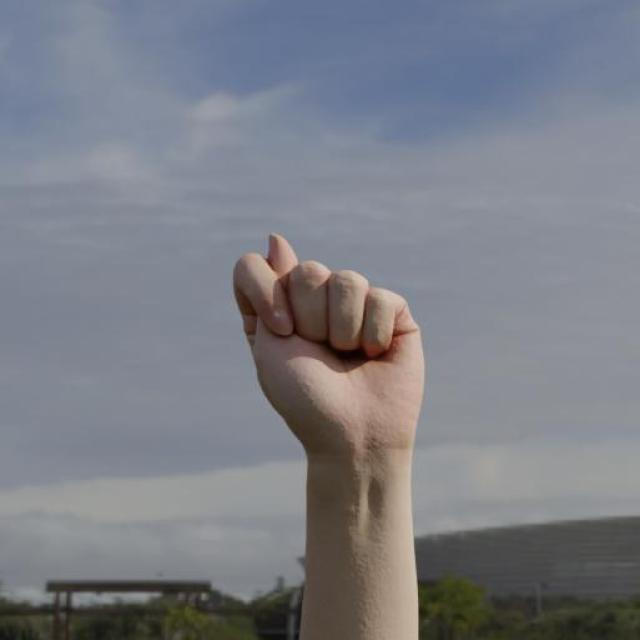T: (232, 229, 428, 453)
